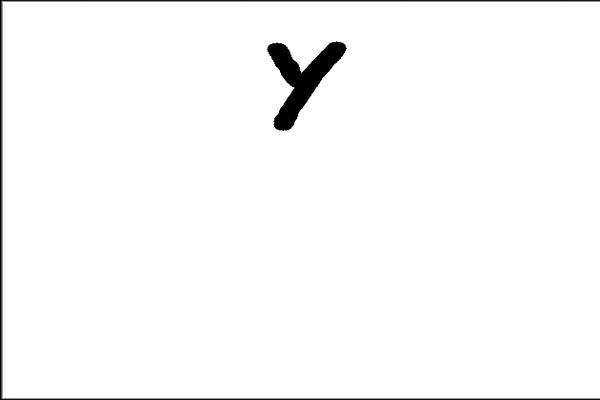Y: (245, 32, 366, 146)
